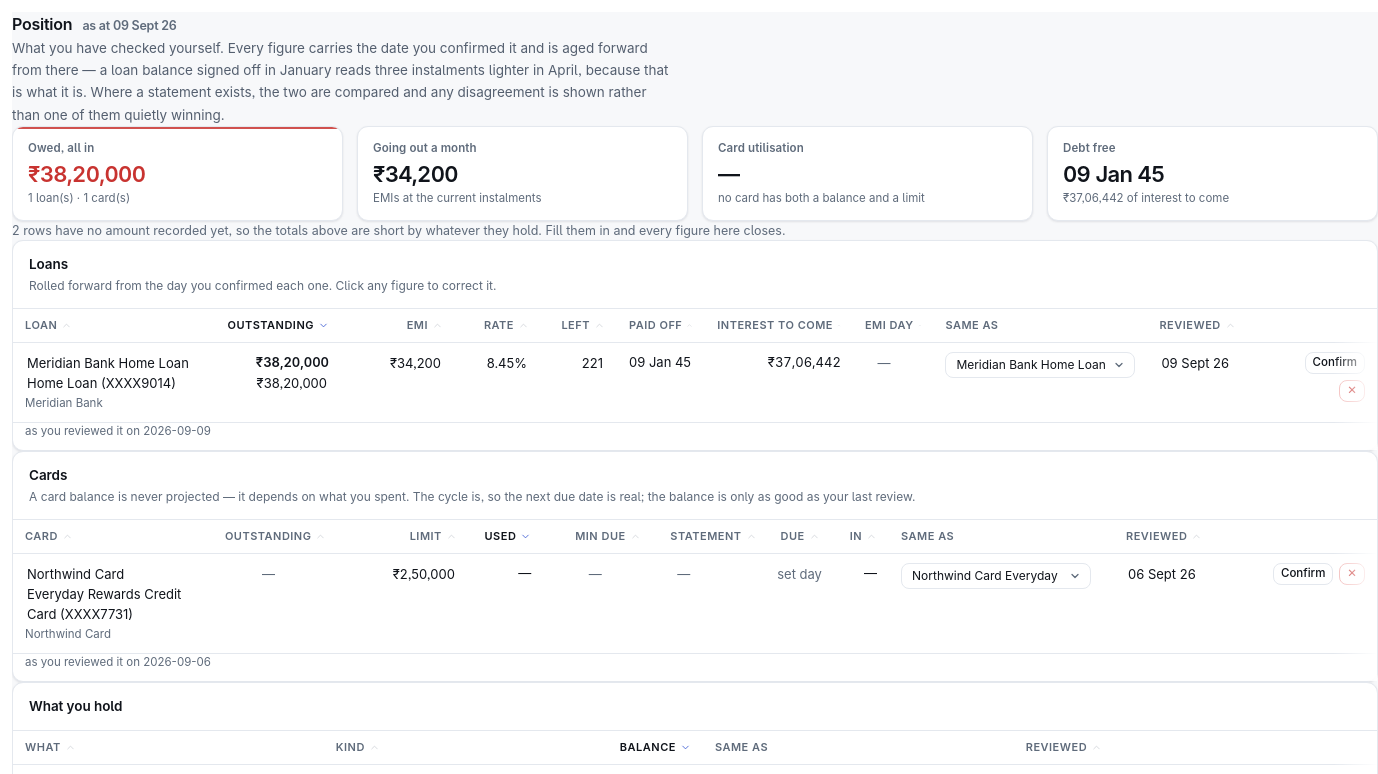
Test case: Position › says what the server said when a change fails
Click the 1st button "Confirm": {"x": 1335, "y": 363} [1305,352,1365,374]
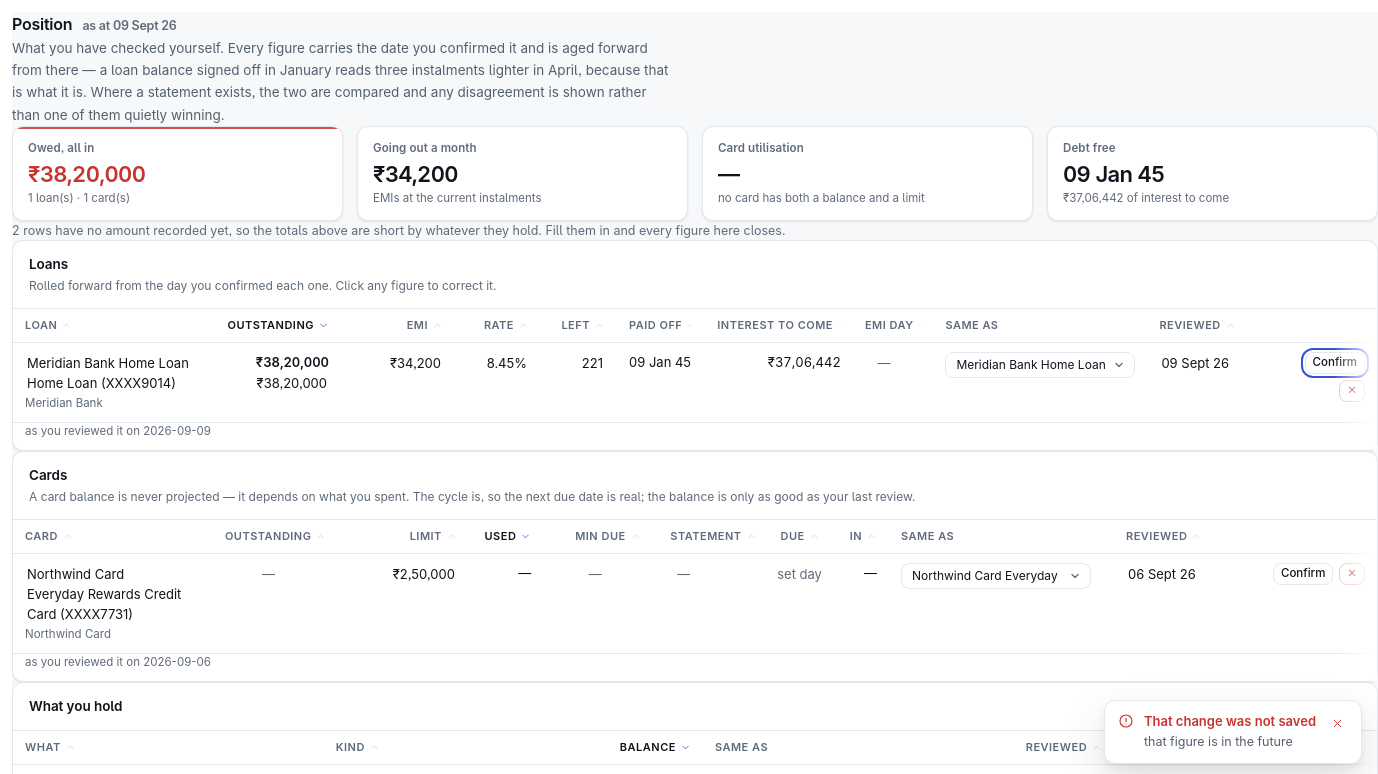
Expected: the text "that figure is in the future" is shown, [1144,733,1316,752]
